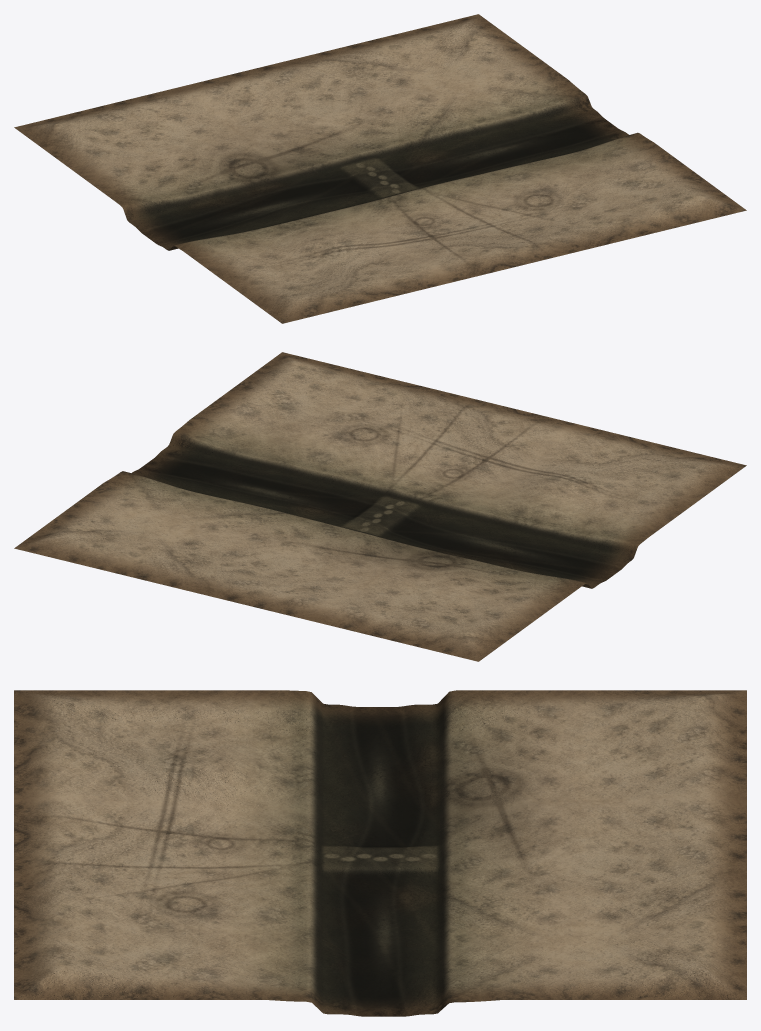
The model's file is the-claim-terrain.glb.
3 views of the same model, one above another, from view 1: azimuth 30°, elevation 25°; view 2: azimuth 150°, elevation 25°; view 3: azimuth 270°, elevation 25° (orthographic). The views are drawn at different scales.
Parts seen in each view (by area): view 1: TheClaimTerrain; view 2: TheClaimTerrain; view 3: TheClaimTerrain.
Boxes of the visible parts, left/top/right/bottom form: TheClaimTerrain: left=14, top=14, right=746, bottom=323; TheClaimTerrain: left=14, top=352, right=746, bottom=661; TheClaimTerrain: left=14, top=690, right=746, bottom=1016.
Bounding box in the file's own units: 64 × 2.75 × 64.
1 material, 1 textured.
